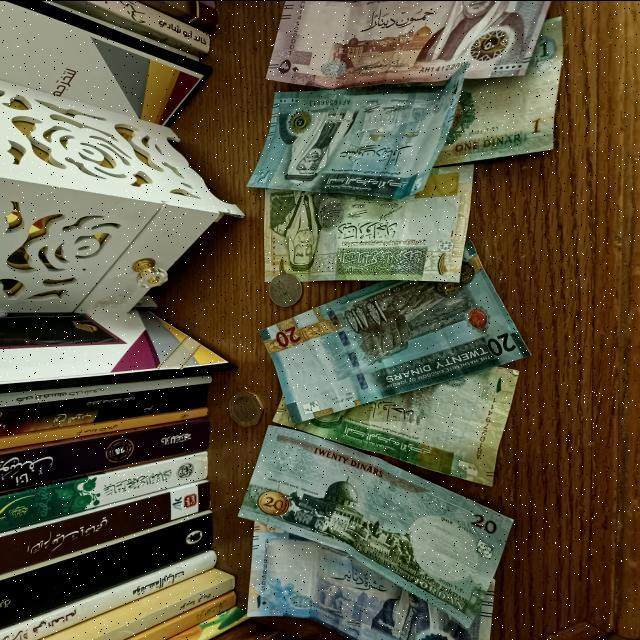1-dinar: (275, 339, 524, 485), (262, 167, 482, 285), (426, 11, 568, 167)
10-dinar: (238, 518, 500, 640)
20-dinar: (239, 420, 519, 624), (255, 236, 532, 428), (244, 62, 470, 204)
5-coins: (263, 272, 305, 304)
50-dinar: (256, 0, 554, 88), (226, 388, 264, 424)
